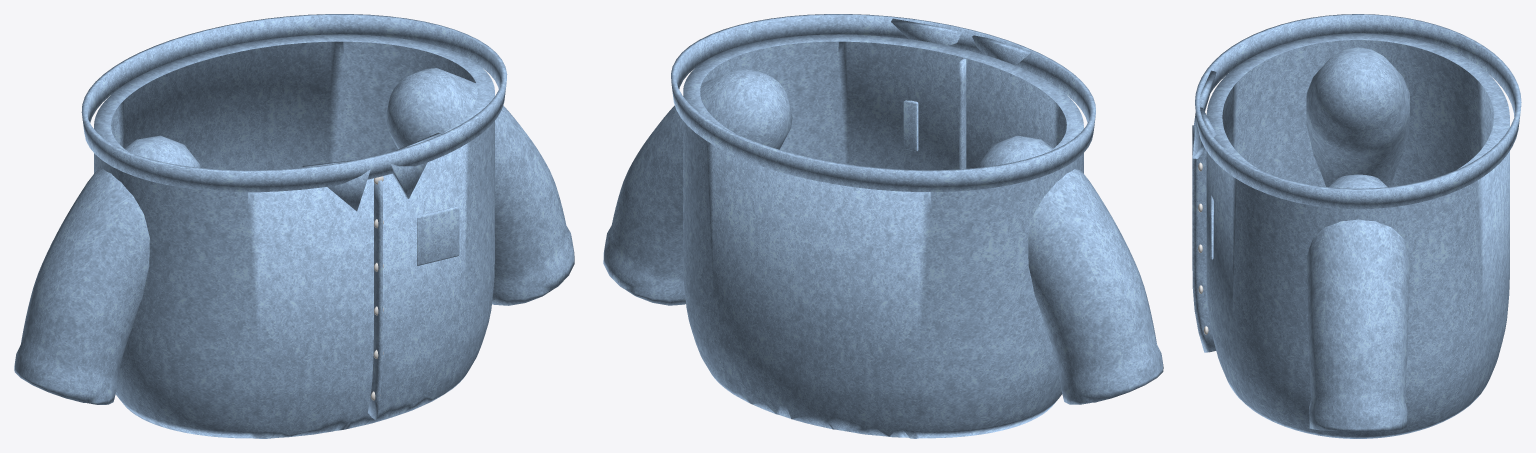
The model's file is buttonshirt3.fbx.
3 views of the same model, side by side, from view 1: azimuth 30°, elevation 25°; view 2: azimuth 150°, elevation 25°; view 3: azimuth 270°, elevation 25° (orthographic). The views are drawn at different scales.
Visible parts, largest first — view 1: buttonshirt3; view 2: buttonshirt3; view 3: buttonshirt3.
Part boxes in pixels (x1,y1,x2,y2): buttonshirt3: (14, 14, 574, 438); buttonshirt3: (603, 14, 1163, 438); buttonshirt3: (1192, 14, 1521, 438).
Bounding box in the file's own units: 1.26 × 0.6203 × 0.7035.
Materials: 2 (1 with a texture image).
